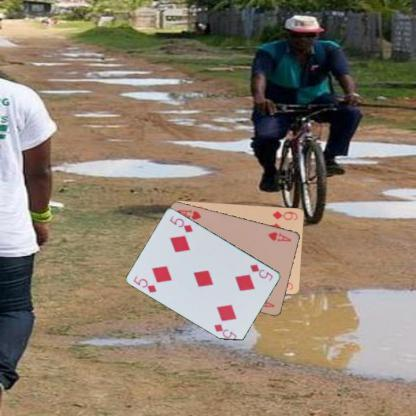5d: (132, 273, 158, 294), (247, 262, 274, 282)
6d: (270, 209, 299, 221)
Ah: (265, 229, 292, 243)
